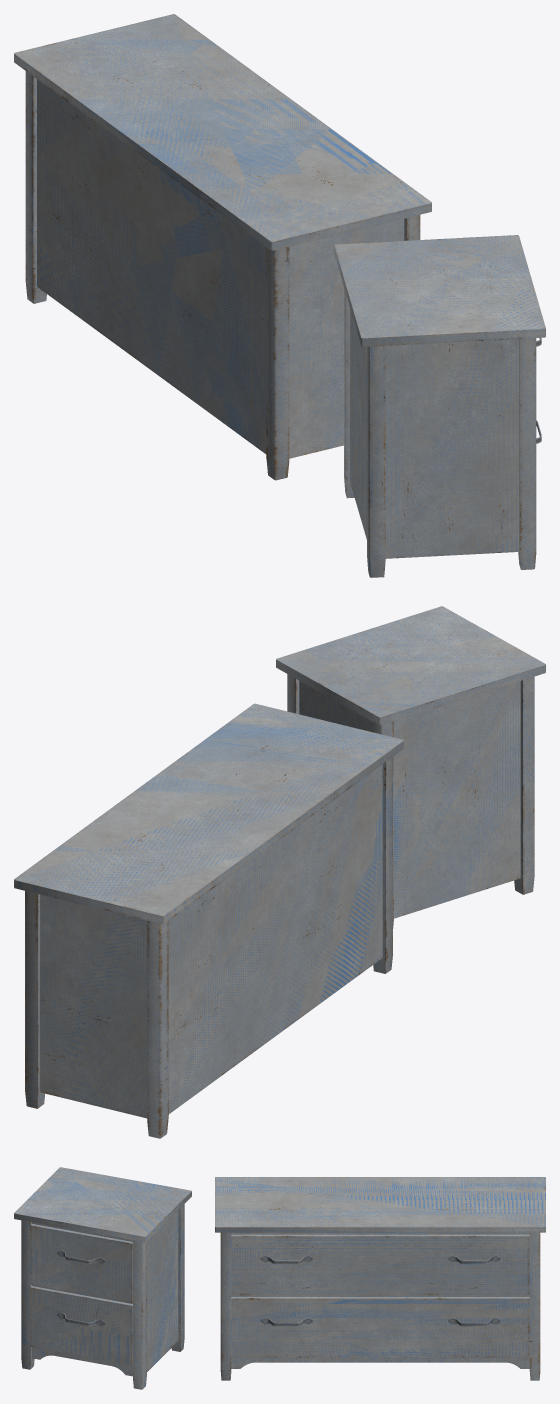
3 renders of one model, top to bottom at view 1: azimuth 30°, elevation 25°; view 2: azimuth 150°, elevation 25°; view 3: azimuth 270°, elevation 25°, orthographic. The views are drawn at different scales.
Visible parts, largest first — view 1: comod, tumba; view 2: comod, tumba; view 3: comod, tumba.
Part boxes in pixels (bbox=[...]): comod: bbox=[14, 14, 431, 480]; tumba: bbox=[334, 235, 545, 577]; comod: bbox=[14, 703, 403, 1138]; tumba: bbox=[276, 606, 545, 928]; comod: bbox=[215, 1177, 545, 1380]; tumba: bbox=[14, 1167, 191, 1389].
Size of the model in its own units: 32.22 by 104 by 33.66.
Materials: 4 (3 with a texture image).
